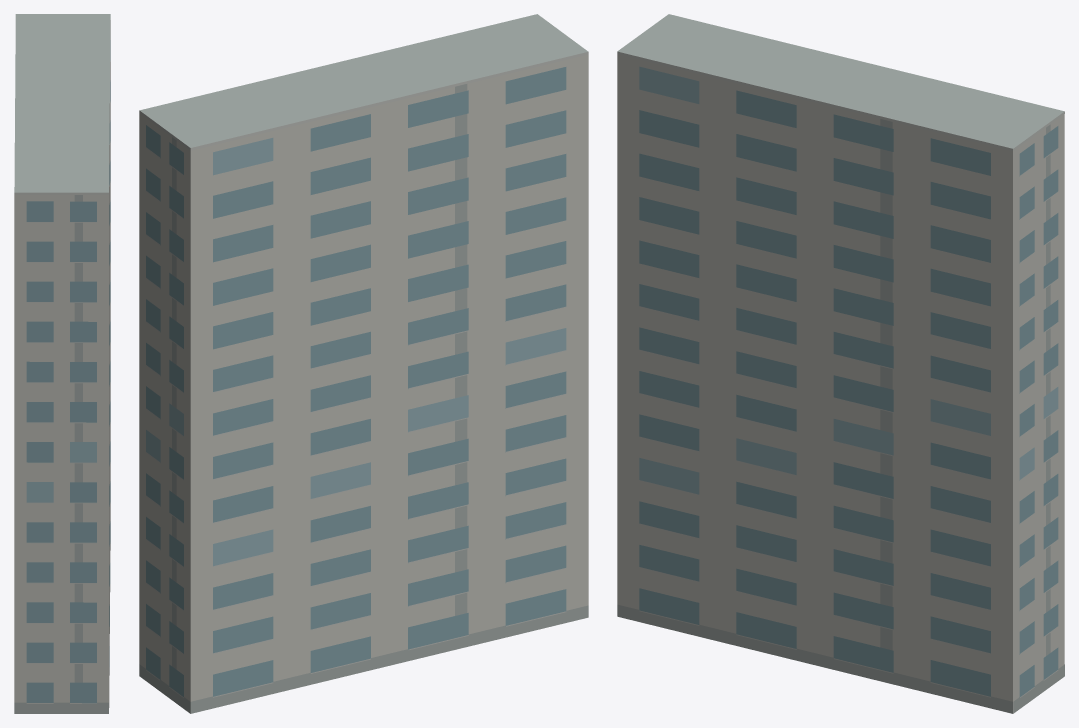
The model's file is residential-2a9f59d3-67b6-4151-9aa2-dccfcaccab0e.glb.
The picture shows the model from 3 angles, left to right: view 1: azimuth 30°, elevation 25°; view 2: azimuth 150°, elevation 25°; view 3: azimuth 270°, elevation 25°; orthographic projection. The views are drawn at different scales.
Parts seen in each view (by area): view 1: residential-2a9f59d3-67b6-4151-9aa2-dccfcaccab0e.tmp; view 2: residential-2a9f59d3-67b6-4151-9aa2-dccfcaccab0e.tmp; view 3: residential-2a9f59d3-67b6-4151-9aa2-dccfcaccab0e.tmp.
Boxes of the visible parts, bbox=[...] form: residential-2a9f59d3-67b6-4151-9aa2-dccfcaccab0e.tmp: bbox=[14, 14, 110, 713]; residential-2a9f59d3-67b6-4151-9aa2-dccfcaccab0e.tmp: bbox=[139, 14, 588, 713]; residential-2a9f59d3-67b6-4151-9aa2-dccfcaccab0e.tmp: bbox=[617, 14, 1064, 713].
Bounding box in the file's own units: 26.62 × 52 × 37.34.
